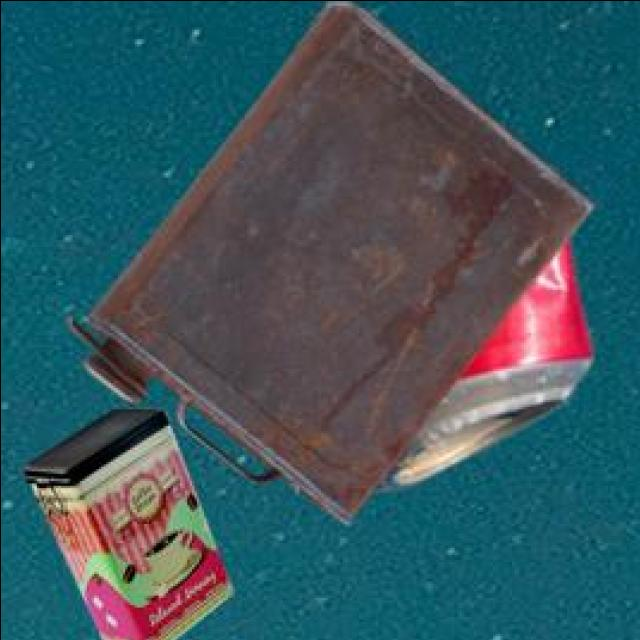logam: (73, 4, 596, 527), (379, 245, 593, 491), (27, 410, 235, 640)
